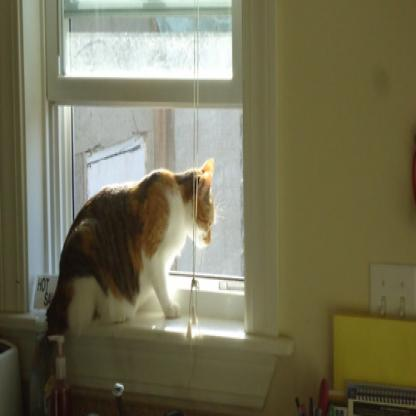Target: (48, 162, 216, 349)
